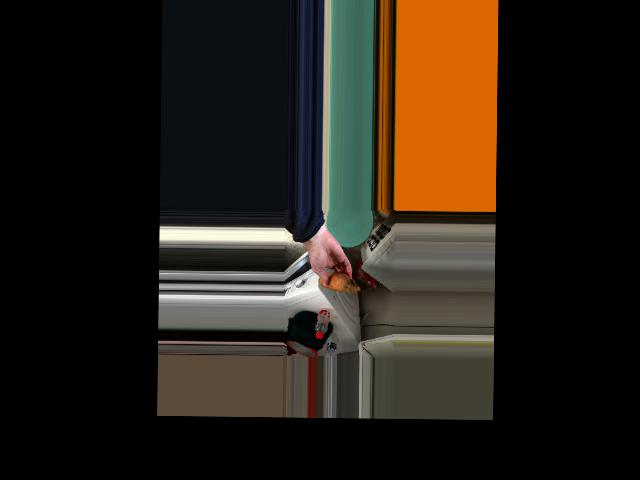sweet_potato: (320, 273, 352, 292)
